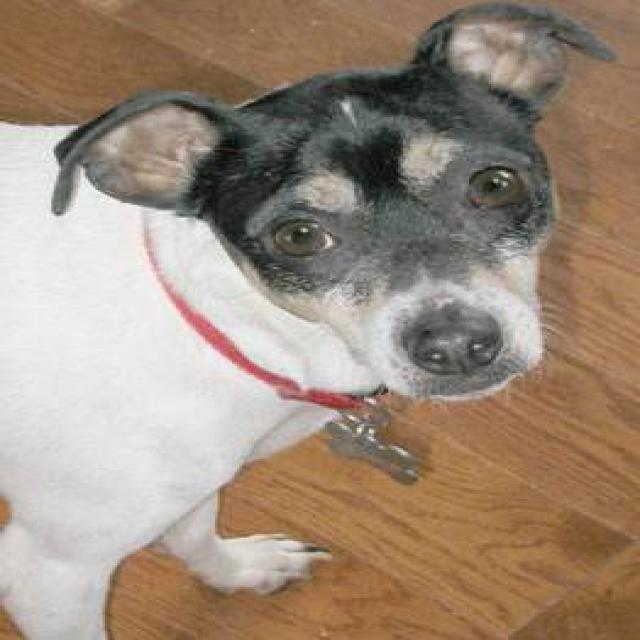dog: (0, 0, 616, 638)
